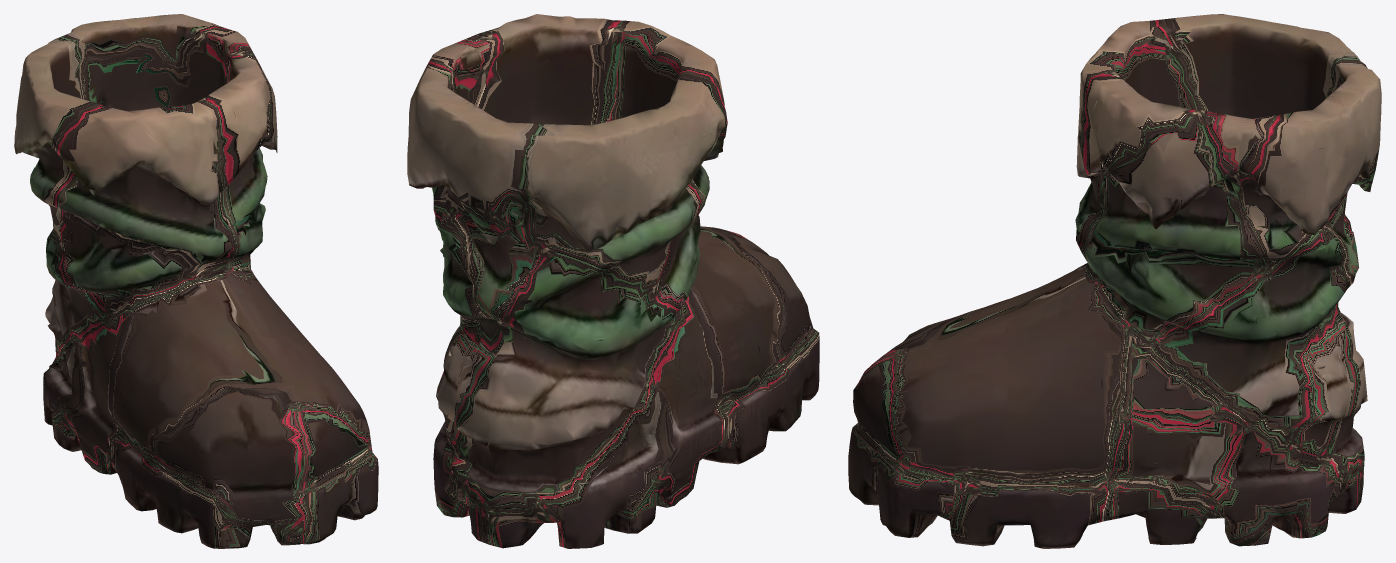
Rendered from totem_boot_A.glb.
3 renders of one model, left to right at view 1: azimuth 30°, elevation 25°; view 2: azimuth 150°, elevation 25°; view 3: azimuth 270°, elevation 25°, orthographic. The views are drawn at different scales.
Size of the model in its own units: 0.1755 by 0.276 by 0.3078.
Materials: 1 (1 with a texture image).
